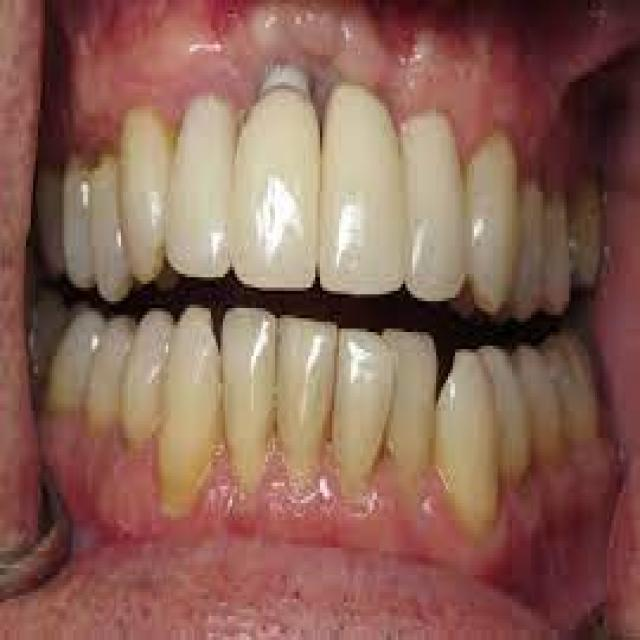tooth: (228, 58, 320, 294), (320, 82, 401, 305), (394, 99, 464, 308), (432, 322, 500, 520), (168, 75, 230, 288), (161, 312, 228, 499), (460, 120, 514, 325), (337, 318, 391, 510), (121, 96, 173, 284), (218, 318, 280, 469), (280, 318, 334, 469), (474, 342, 529, 483), (382, 332, 432, 486), (90, 154, 138, 298), (123, 308, 171, 445), (47, 298, 95, 434), (507, 171, 545, 322), (543, 188, 583, 322), (88, 308, 128, 442), (522, 352, 566, 472), (62, 164, 94, 291), (557, 346, 597, 442)
